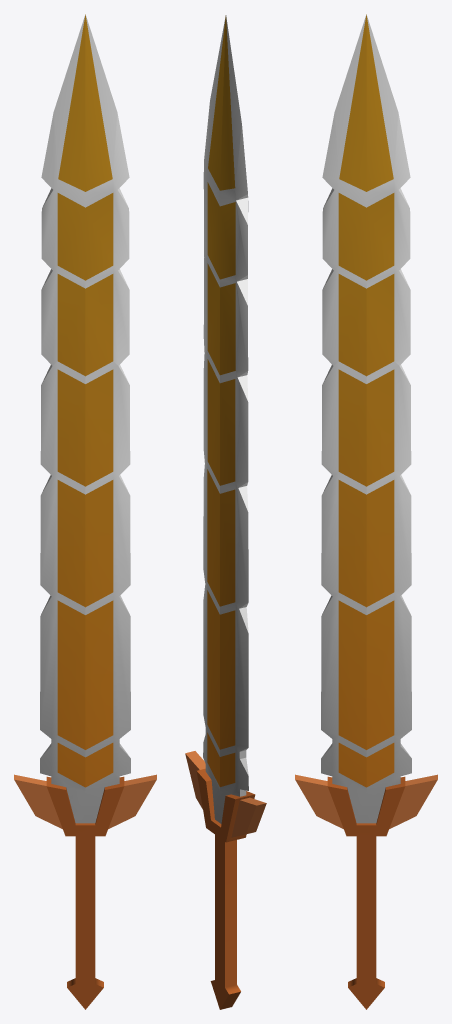
Rendered from Weapon_saber.fbx.
3 renders of one model, left to right at view 1: azimuth 90°, elevation 25°; view 2: azimuth 210°, elevation 25°; view 3: azimuth 270°, elevation 25°, orthographic.
Visible parts, largest first — view 1: W_GT_1; view 2: W_GT_1; view 3: W_GT_1.
Part boxes in pixels (<box>): W_GT_1: <box>14,14,156,1009</box>; W_GT_1: <box>185,15,266,1009</box>; W_GT_1: <box>295,14,437,1009</box>.
Bounding box in the file's own units: 2.64 × 123 × 16.
